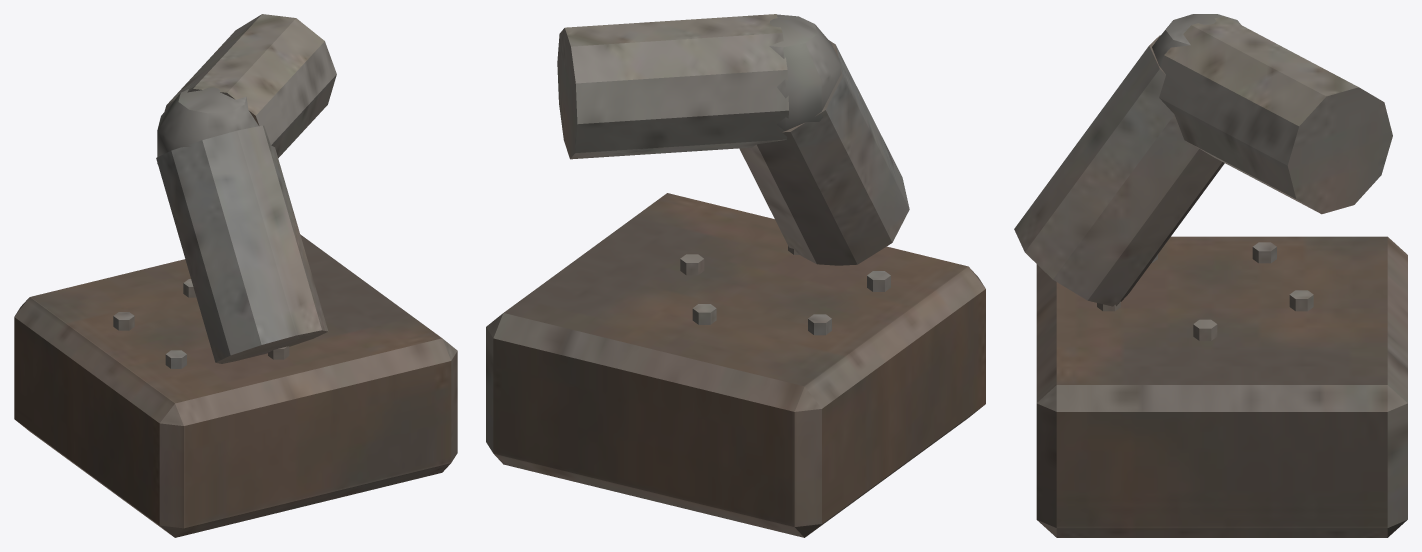
Rendered from cargo-bay-inner-nw.glb.
3 views of the same model, side by side, from view 1: azimuth 30°, elevation 25°; view 2: azimuth 150°, elevation 25°; view 3: azimuth 270°, elevation 25° (orthographic). The views are drawn at different scales.
Parts seen in each view (by area): view 1: body; view 2: body; view 3: body.
Boxes of the visible parts, x1,y1,x2,y2 form: body: (14, 14, 457, 537); body: (486, 14, 985, 537); body: (1014, 14, 1407, 537).
Bounding box in the file's own units: 0.58 × 0.7 × 0.5832.
1 material, 1 textured.
